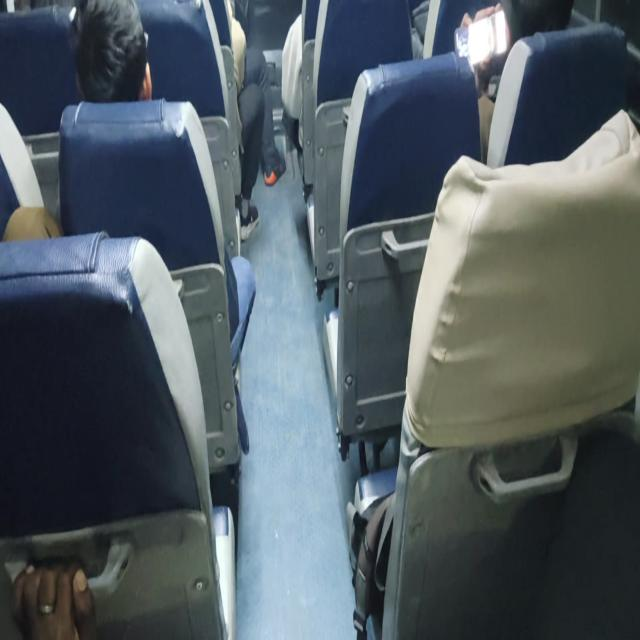person: (4, 0, 256, 365), (3, 0, 153, 240), (458, 1, 574, 158), (232, 2, 286, 186), (74, 0, 153, 103), (10, 558, 97, 638)
